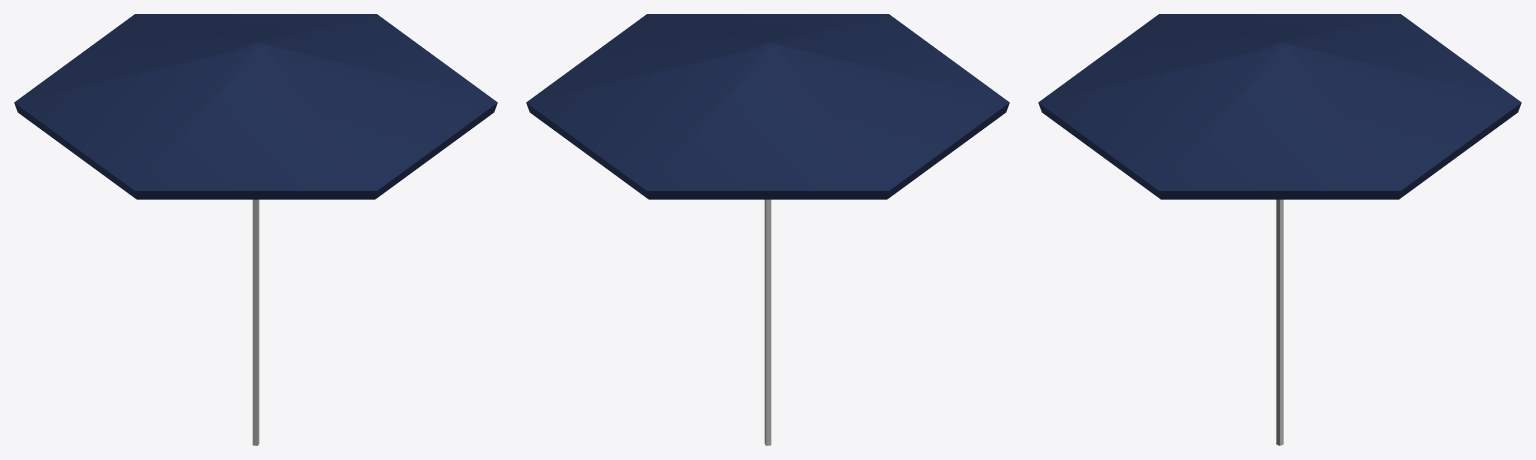
File: SM_Prop_cafe_parasol_3_LOD2.glb
The picture shows the model from 3 angles, left to right: view 1: azimuth 30°, elevation 25°; view 2: azimuth 150°, elevation 25°; view 3: azimuth 270°, elevation 25°; orthographic projection.
Parts seen in each view (by area): view 1: SM_Prop_cafe_parasol_3_LOD2; view 2: SM_Prop_cafe_parasol_3_LOD2; view 3: SM_Prop_cafe_parasol_3_LOD2.
Boxes of the visible parts, <box> form: SM_Prop_cafe_parasol_3_LOD2: <box>14,14,497,445</box>; SM_Prop_cafe_parasol_3_LOD2: <box>526,14,1009,445</box>; SM_Prop_cafe_parasol_3_LOD2: <box>1038,14,1521,445</box>.
Bounding box in the file's own units: 2.29 × 2.42 × 2.64.
